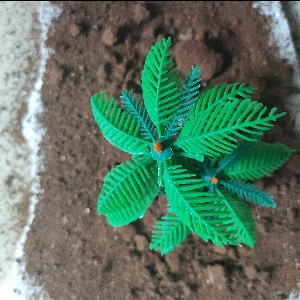plant: (93, 57, 293, 254)
